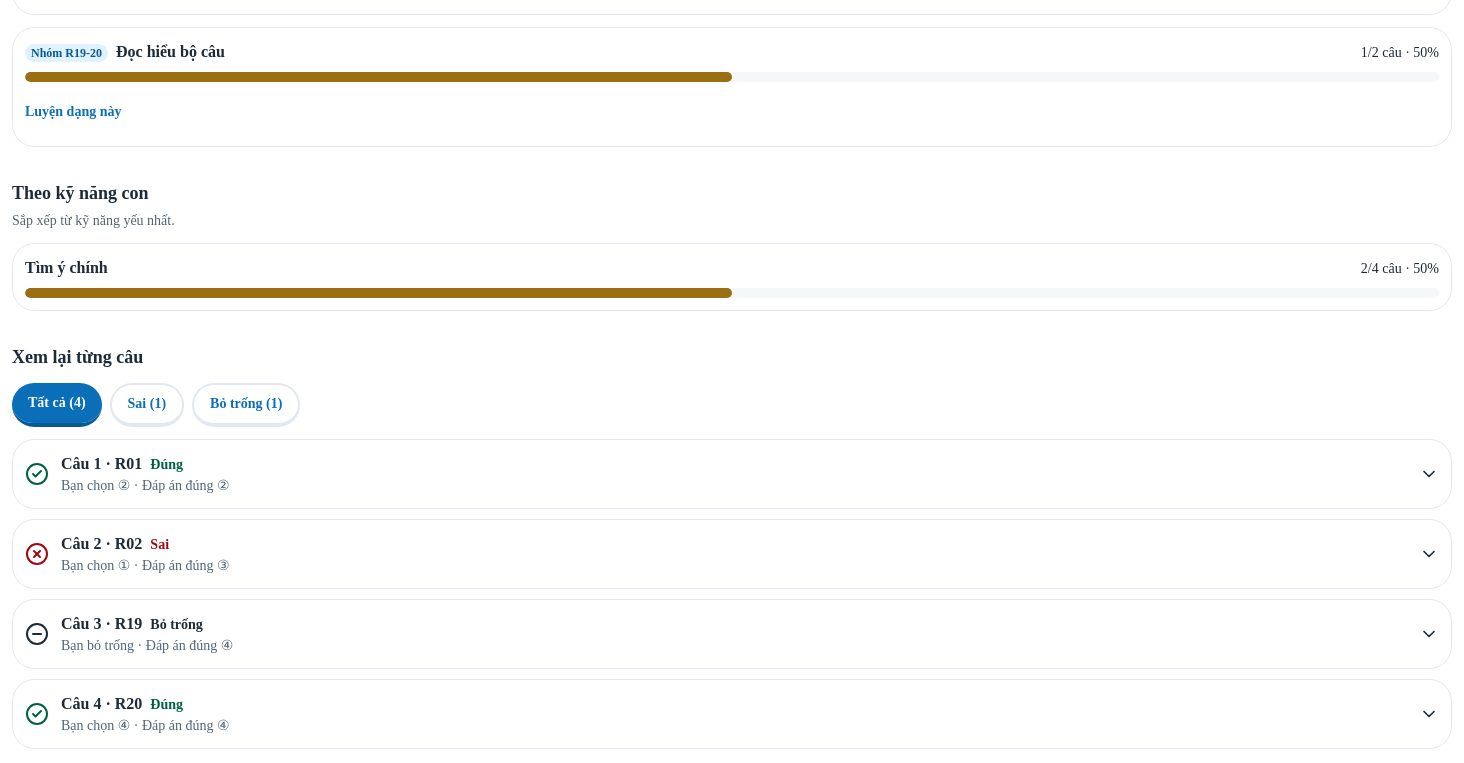
Scenario: ExamResultView: xem lại câu › lọc Tất cả / Sai / Bỏ trống kèm số lượng
(page scrolled)
Click the button "Sai (1)" at (147, 405), box [110,383,184,427]
(page scrolled)
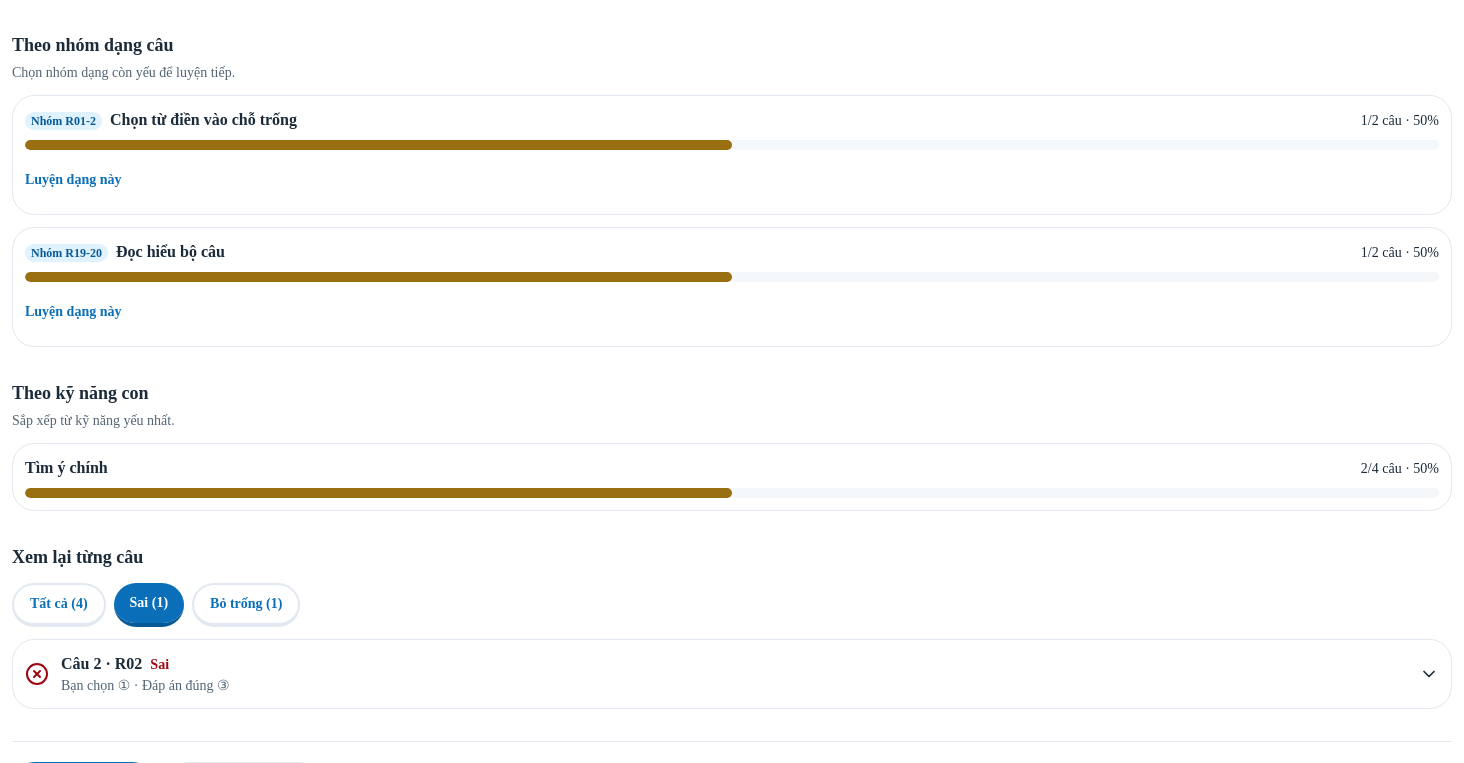
Expected: the heading "Câu 2 · R02Sai Bạn chọn ① · Đáp án đúng ③" is shown, [13,640,1451,708]
Click the button "Bỏ trống (1)" at (246, 605), box [192,583,300,627]
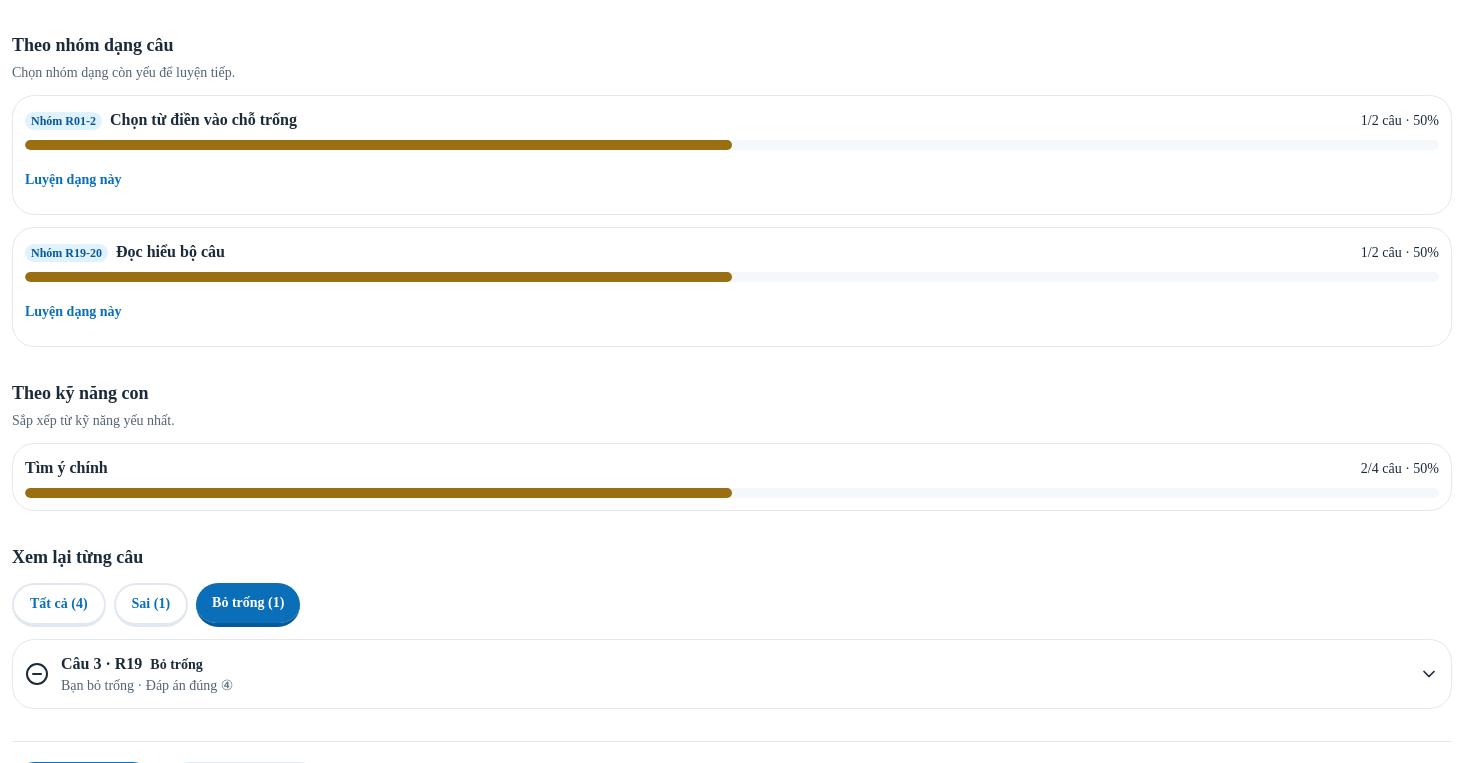
Expected: the heading "Câu 3 · R19Bỏ trống Bạn bỏ trống · Đáp án đúng ④" is shown, [13,640,1451,708]
